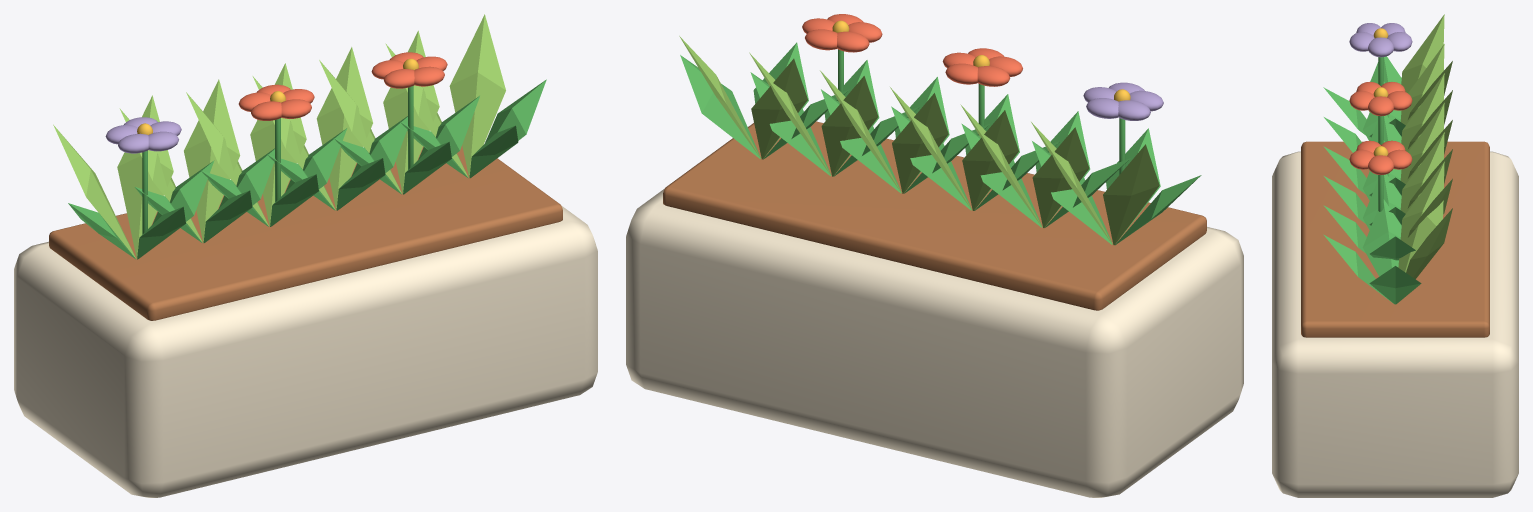
File: Planter.fbx
3 views of the same model, side by side, from view 1: azimuth 30°, elevation 25°; view 2: azimuth 150°, elevation 25°; view 3: azimuth 270°, elevation 25° (orthographic). The views are drawn at different scales.
Parts seen in each view (by area): view 1: GEO-Body; view 2: GEO-Body; view 3: GEO-Body.
Part boxes in pixels (left/top/right/bottom): GEO-Body: left=14, top=14, right=597, bottom=497; GEO-Body: left=626, top=14, right=1243, bottom=497; GEO-Body: left=1272, top=14, right=1518, bottom=497.
Size of the model in its own units: 1.76 by 1.14 by 0.85.
